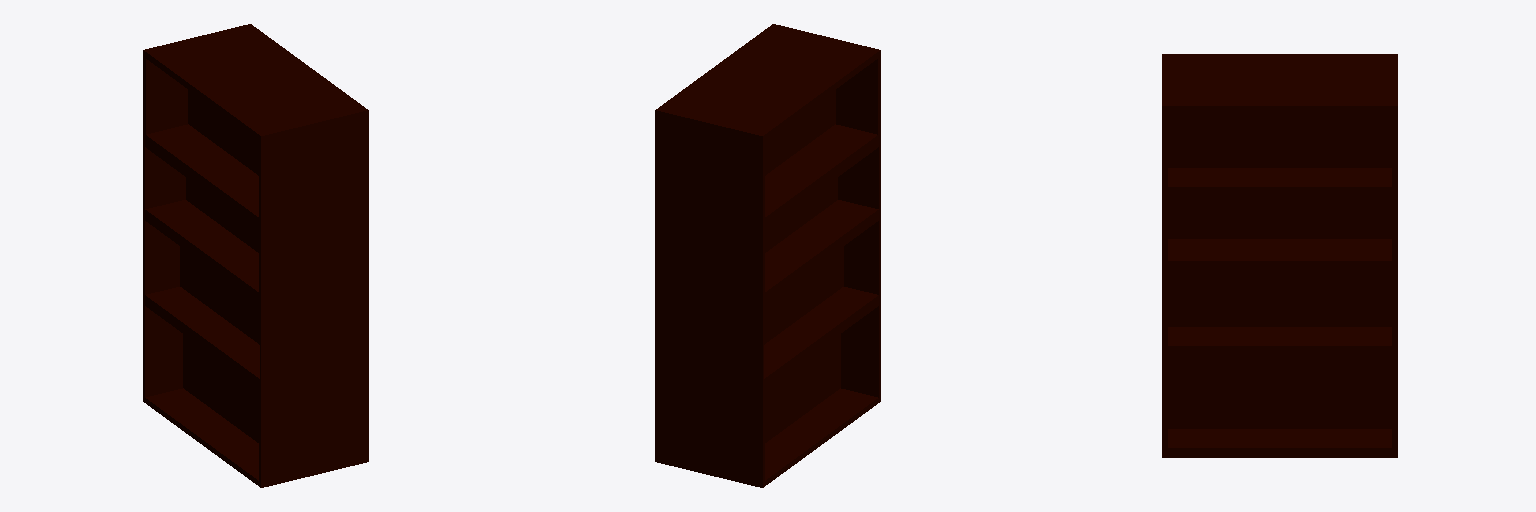
Rendered from Boekenkast_low_lod.obj.
3 renders of one model, left to right at view 1: azimuth 30°, elevation 25°; view 2: azimuth 150°, elevation 25°; view 3: azimuth 270°, elevation 25°, orthographic.
Parts seen in each view (by area): view 1: Cube.001; view 2: Cube.001; view 3: Cube.001.
Boxes of the visible parts, x1=… form: Cube.001: x1=143, y1=24, x2=368, y2=487; Cube.001: x1=655, y1=24, x2=880, y2=487; Cube.001: x1=1162, y1=54, x2=1397, y2=457.
Size of the model in its own units: 0.9306 by 2.91 by 1.77.